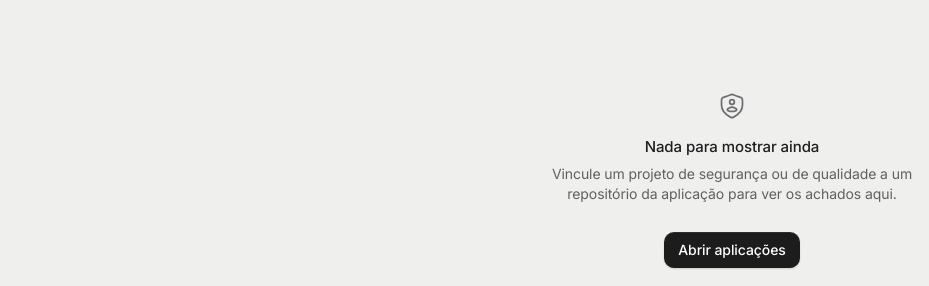
Test case: página de segurança › sem nenhum vínculo a página explica onde escolher o projeto
Expected: the text "Nada para mostrar ainda" is shown, [645,136,819,158]
Expected: the text "Vincule um projeto de segurança ou de qualidade" is shown, [552,165,912,202]
Step 1. Click the button "Abrir aplicações" → (732, 250), box [664,232,800,268]
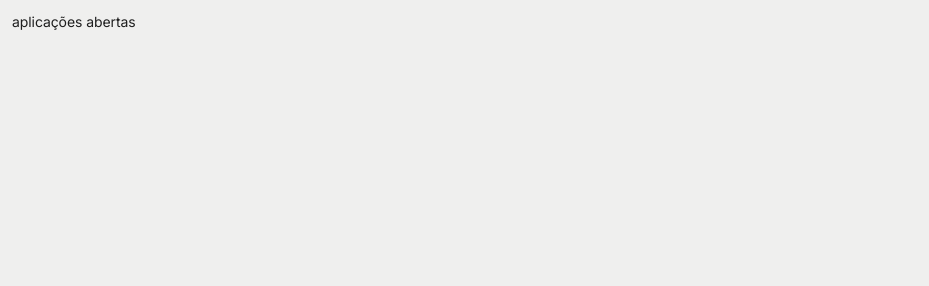
Result: the text "aplicações abertas" is shown at [12,13,136,30]
